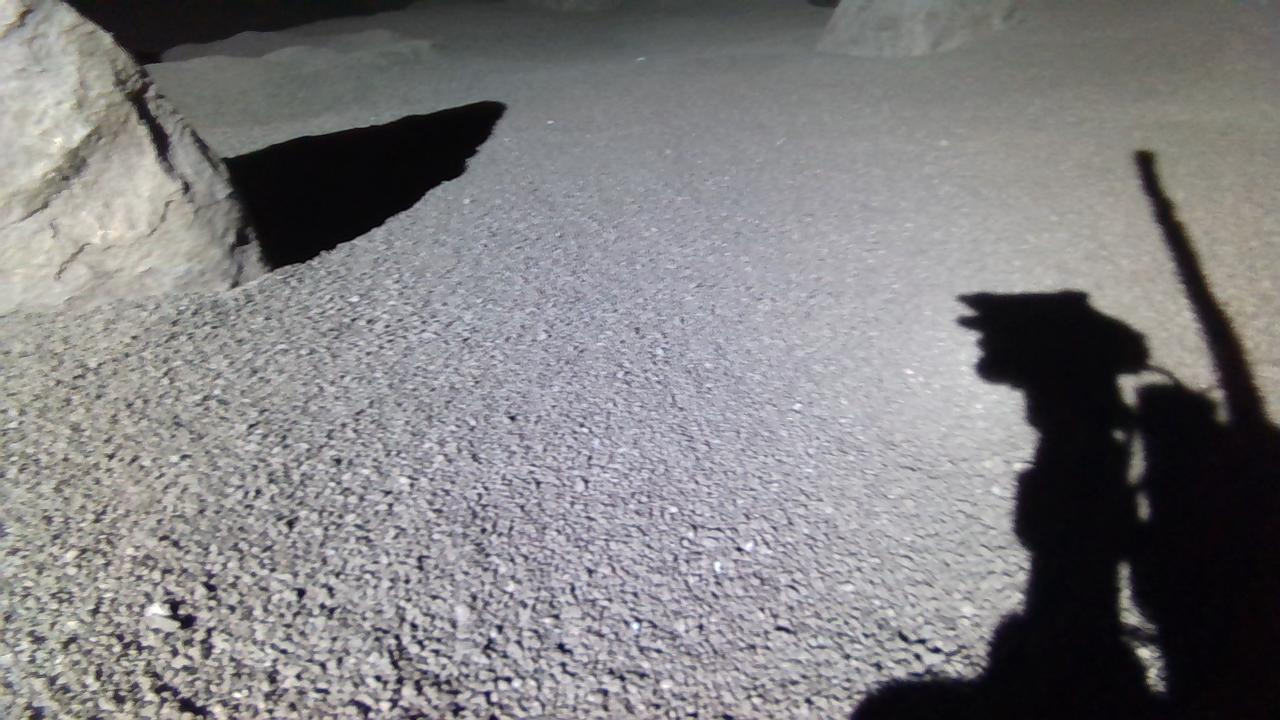rock: (0, 0, 266, 314), (818, 0, 1019, 56)
